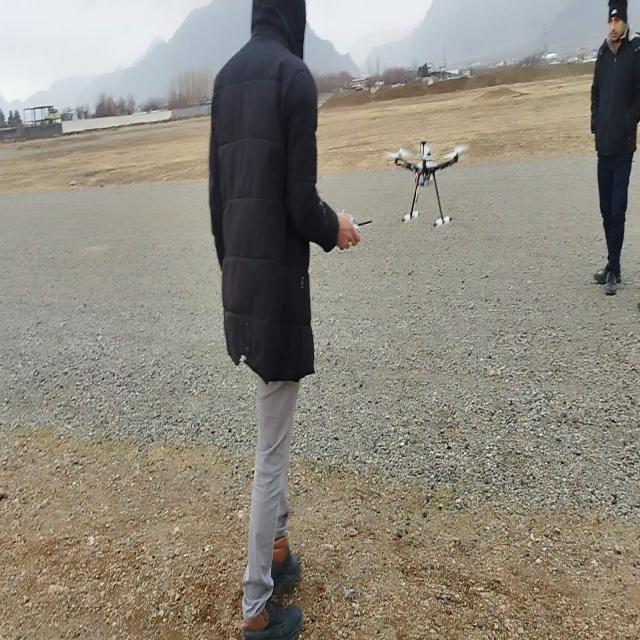drone: (384, 138, 469, 228)
